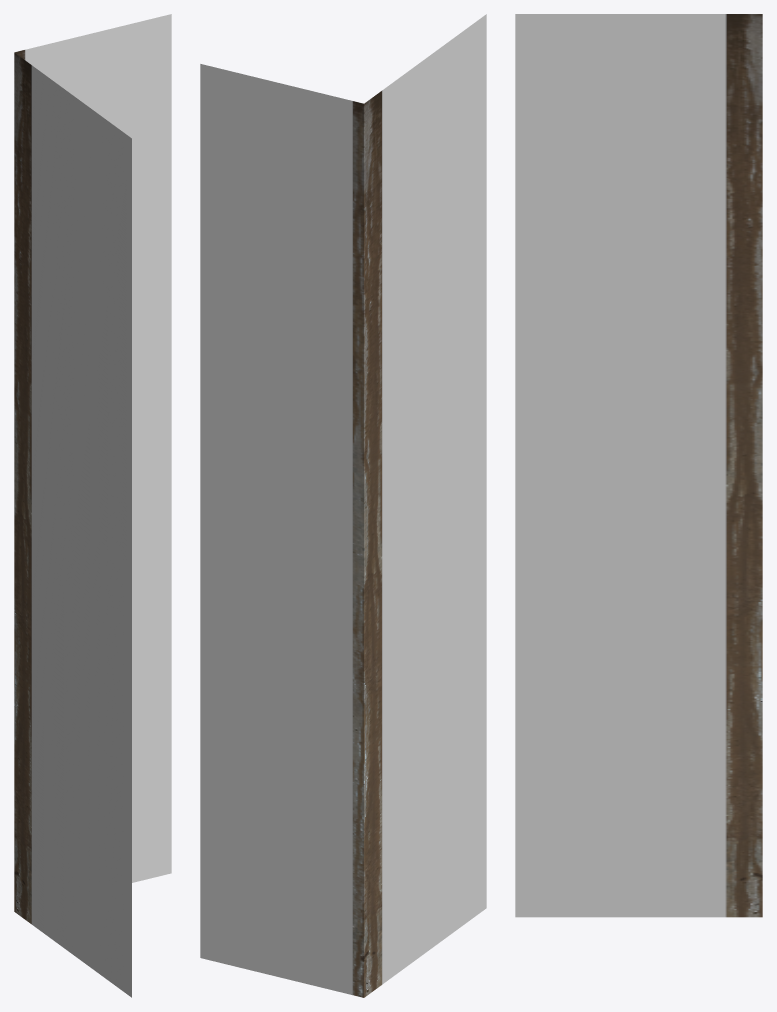
The model's file is Decal_Interior.fbx.
3 views of the same model, side by side, from view 1: azimuth 30°, elevation 25°; view 2: azimuth 150°, elevation 25°; view 3: azimuth 270°, elevation 25° (orthographic). The views are drawn at different scales.
Visible parts, largest first — view 1: Decal_Interior; view 2: Decal_Interior; view 3: Decal_Interior.
Boxes of the visible parts, x1,y1,x2,y2 form: Decal_Interior: [14, 14, 171, 997]; Decal_Interior: [200, 14, 486, 997]; Decal_Interior: [515, 14, 762, 917].
Bounding box in the file's own units: 54.94 × 287 × 71.23.
1 material, 1 textured.
